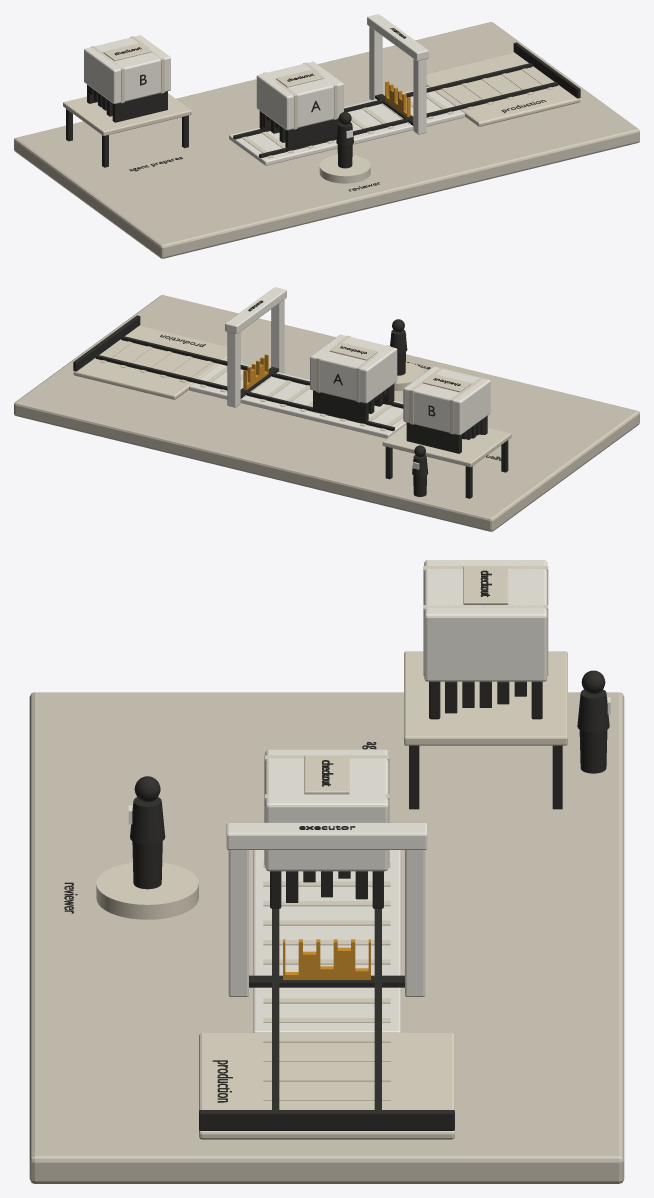
3 renders of one model, top to bottom at view 1: azimuth 30°, elevation 25°; view 2: azimuth 150°, elevation 25°; view 3: azimuth 270°, elevation 25°, orthographic. The views are drawn at different scales.
Parts seen in each view (by area): view 1: Plinth, Prod_platform, Crate_A_body, Crate_B_body, Track_bed, Bench_top, Rail_0, Review_dais, Gate_beam, Crate_B_runner0, Gate_post0, Crate_A_runner0 (+5 smaller); view 2: Plinth, Prod_platform, Crate_A_body, Crate_B_body, Track_bed, Bench_top, Rail_1, Gate_beam, Crate_A_runner1, Crate_B_runner1, Gate_post1, Gate_post0 (+5 smaller); view 3: Plinth, Prod_platform, Track_bed, Crate_B_body, Crate_A_body, Bench_top, Gate_beam, Prod_edge, Review_dais, Gate_post0, Gate_post1, Crate_A_tag (+8 smaller).
Boxes of the visible parts, x1=… form: Plinth: x1=14, y1=22, x2=639, y2=258; Prod_platform: x1=426, y1=52, x2=580, y2=126; Crate_A_body: x1=256, y1=61, x2=343, y2=130; Crate_B_body: x1=84, y1=35, x2=170, y2=103; Track_bed: x1=229, y1=86, x2=464, y2=165; Bench_top: x1=63, y1=93, x2=191, y2=135; Rail_0: x1=259, y1=81, x2=558, y2=158; Review_dais: x1=319, y1=155, x2=370, y2=183; Gate_beam: x1=367, y1=14, x2=428, y2=60; Crate_B_runner0: x1=112, y1=91, x2=167, y2=122; Gate_post0: x1=413, y1=59, x2=426, y2=134; Crate_A_runner0: x1=285, y1=118, x2=339, y2=148; Plinth: x1=14, y1=295, x2=639, y2=531; Prod_platform: x1=73, y1=325, x2=227, y2=399; Crate_A_body: x1=310, y1=334, x2=397, y2=403; Crate_B_body: x1=403, y1=366, x2=490, y2=435; Track_bed: x1=189, y1=359, x2=406, y2=438; Bench_top: x1=382, y1=424, x2=511, y2=467; Rail_1: x1=95, y1=354, x2=394, y2=431; Gate_beam: x1=225, y1=287, x2=286, y2=333; Crate_A_runner1: x1=313, y1=390, x2=368, y2=421; Crate_B_runner1: x1=406, y1=422, x2=461, y2=453; Gate_post1: x1=227, y1=332, x2=240, y2=407; Gate_post0: x1=271, y1=299, x2=284, y2=373; Plinth: x1=29, y1=692, x2=624, y2=1183; Prod_platform: x1=199, y1=1033, x2=454, y2=1139; Track_bed: x1=253, y1=850, x2=400, y2=1032; Crate_B_body: x1=424, y1=560, x2=547, y2=681; Crate_A_body: x1=265, y1=749, x2=388, y2=871; Bench_top: x1=404, y1=651, x2=567, y2=745; Gate_beam: x1=226, y1=822, x2=427, y2=849; Prod_edge: x1=199, y1=1110, x2=454, y2=1130; Review_dais: x1=96, y1=862, x2=198, y2=919; Gate_post0: x1=228, y1=850, x2=248, y2=996; Gate_post1: x1=405, y1=850, x2=425, y2=996; Crate_A_tag: x1=304, y1=755, x2=349, y2=794.
Size of the model in its own units: 10.8 by 2.29 by 5.8.
